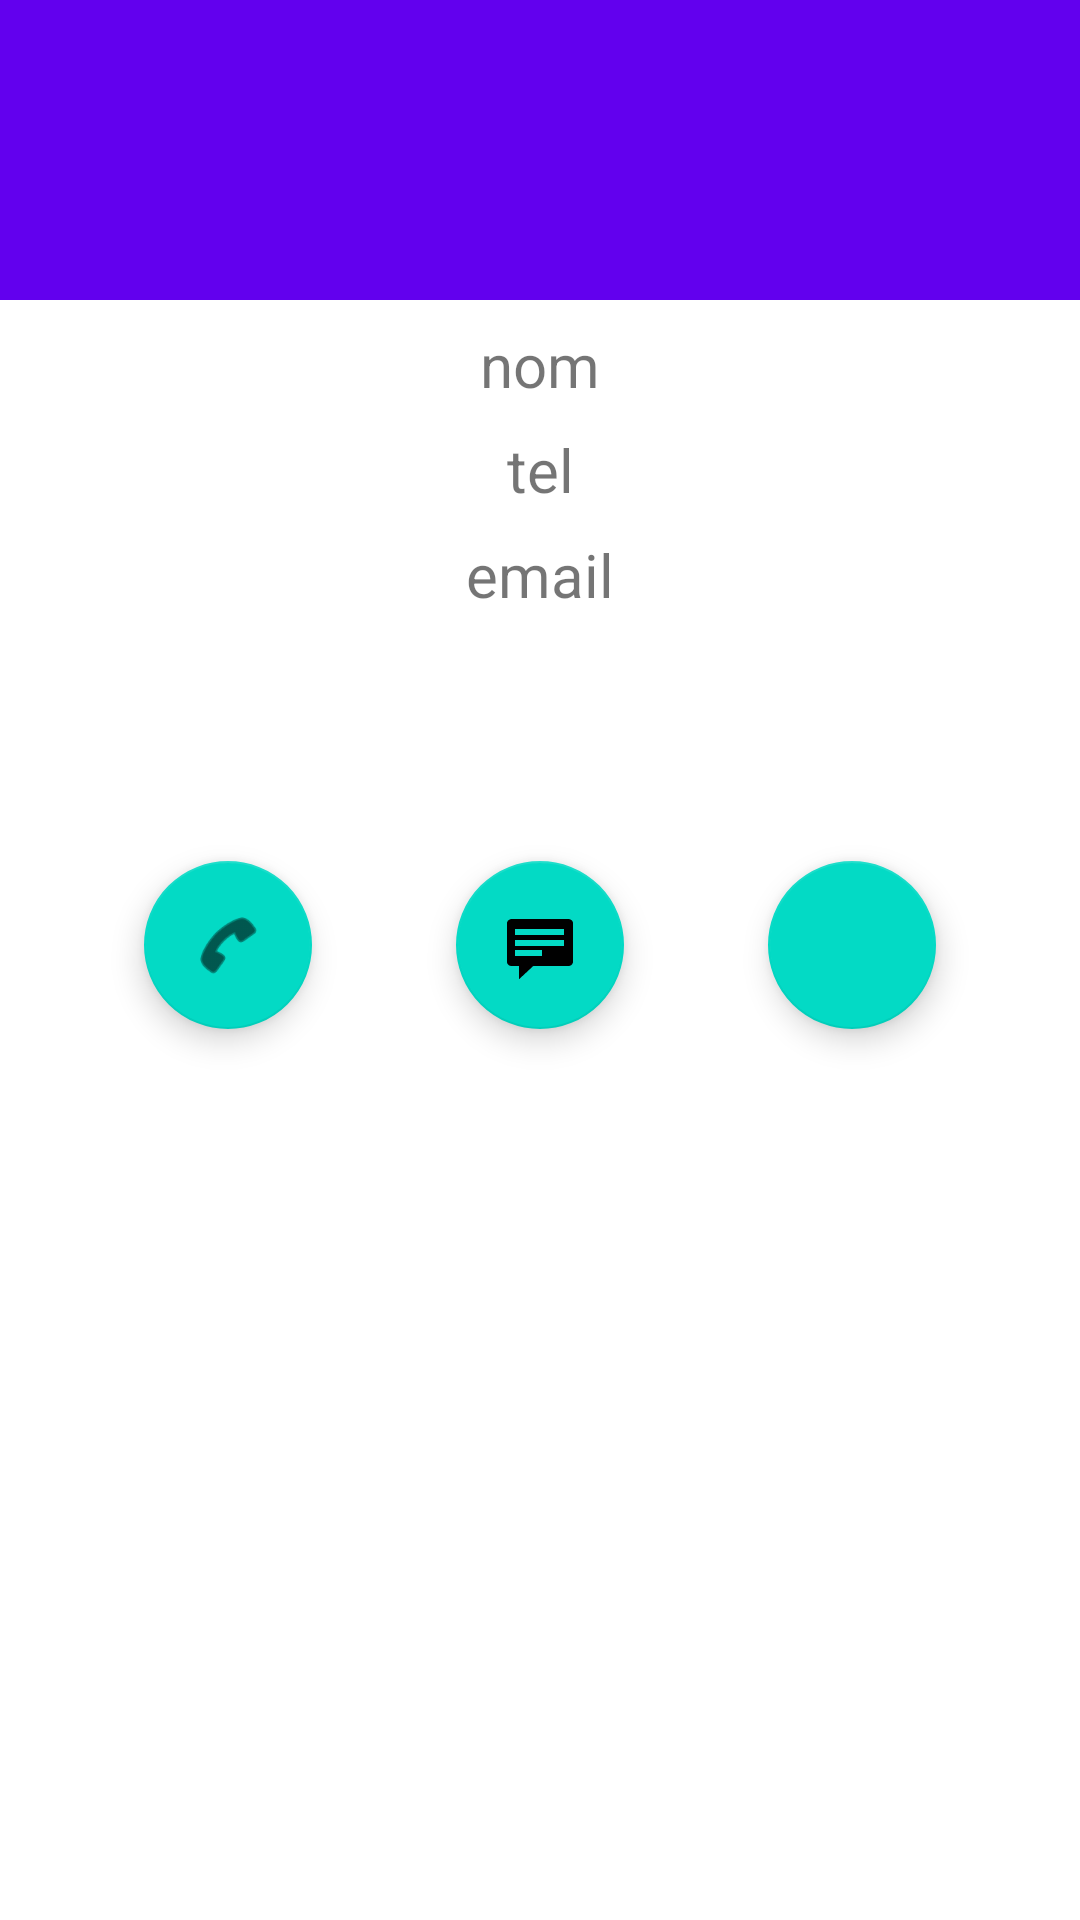

Named icons in this screenshot (1080*1920) and their bounding boxes, {"left": x1, "top": y1, "right": x2, "bottom": y2}:
call: {"left": 144, "top": 861, "right": 312, "bottom": 1029}
chat: {"left": 456, "top": 861, "right": 624, "bottom": 1029}
